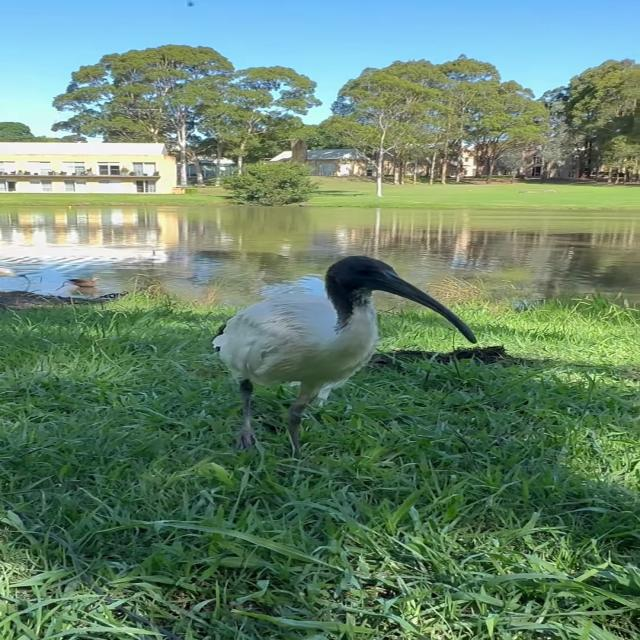Birds-Ibis: (206, 252, 482, 459), (0, 260, 38, 296)
Birds-Other: (63, 272, 105, 293)
